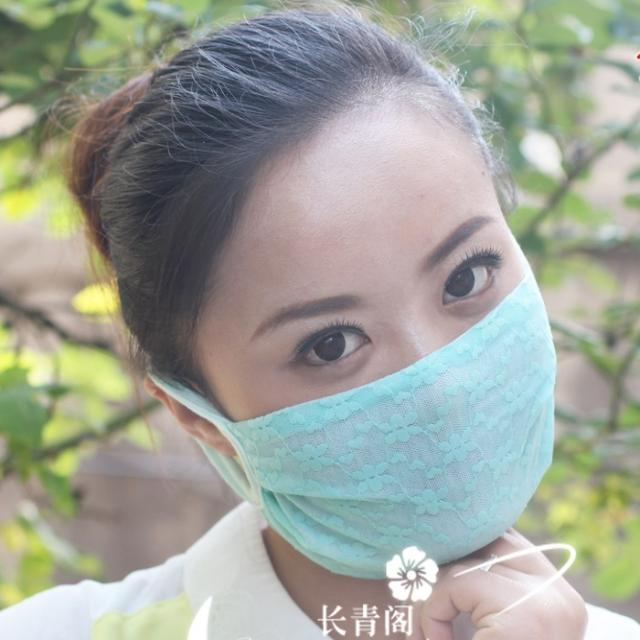mask: (224, 127, 556, 585)
